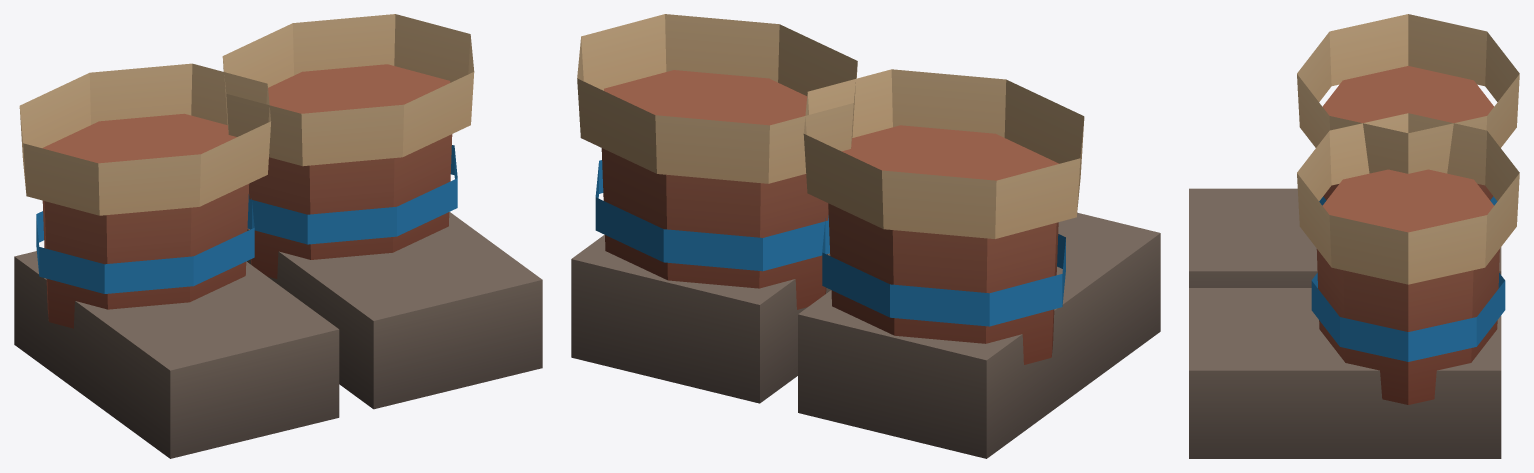
File: berserker_hunter_boots_t2.glb
3 renders of one model, left to right at view 1: azimuth 30°, elevation 25°; view 2: azimuth 150°, elevation 25°; view 3: azimuth 270°, elevation 25°, orthographic. The views are drawn at different scales.
Parts seen in each view (by area): view 1: berserker_hunter_boots_t2__lowerleg_r, berserker_hunter_boots_t2__lowerleg_l, berserker_hunter_boots_t2__foot_r, berserker_hunter_boots_t2__foot_l; view 2: berserker_hunter_boots_t2__lowerleg_r, berserker_hunter_boots_t2__lowerleg_l, berserker_hunter_boots_t2__foot_r, berserker_hunter_boots_t2__foot_l; view 3: berserker_hunter_boots_t2__lowerleg_l, berserker_hunter_boots_t2__foot_l, berserker_hunter_boots_t2__lowerleg_r, berserker_hunter_boots_t2__foot_r.
Boxes of the visible parts, bbox=[...] form: berserker_hunter_boots_t2__lowerleg_r: bbox=[19, 63, 271, 328]; berserker_hunter_boots_t2__lowerleg_l: bbox=[222, 14, 474, 278]; berserker_hunter_boots_t2__foot_r: bbox=[14, 251, 339, 458]; berserker_hunter_boots_t2__foot_l: bbox=[247, 212, 542, 409]; berserker_hunter_boots_t2__lowerleg_r: bbox=[803, 69, 1084, 364]; berserker_hunter_boots_t2__lowerleg_l: bbox=[577, 14, 857, 309]; berserker_hunter_boots_t2__foot_r: bbox=[798, 212, 1160, 458]; berserker_hunter_boots_t2__foot_l: bbox=[571, 234, 830, 403]; berserker_hunter_boots_t2__lowerleg_l: bbox=[1297, 113, 1519, 404]; berserker_hunter_boots_t2__foot_l: bbox=[1189, 288, 1501, 458]; berserker_hunter_boots_t2__lowerleg_r: bbox=[1297, 14, 1519, 205]; berserker_hunter_boots_t2__foot_r: bbox=[1189, 188, 1501, 287].
Size of the model in its own units: 1.5 by 0.7825 by 0.9579.
1 material, 1 textured.
